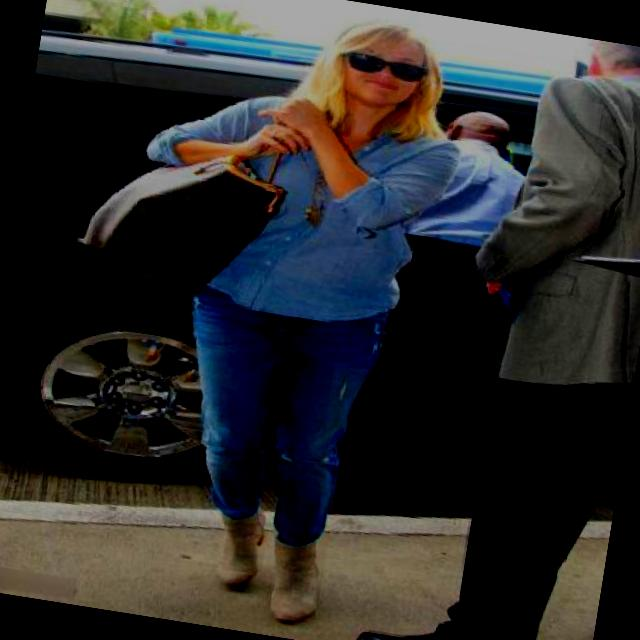Person: (15, 0, 476, 633)
